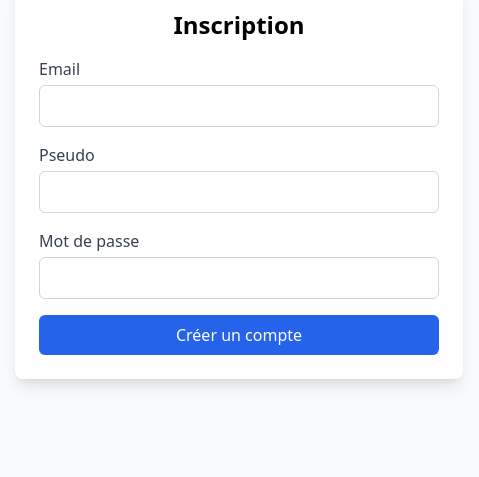
Test: Register Page › affiche des messages d'erreur de validation pour les champs requis
Click the button "Créer un compte".
click(239, 335)  # box [39, 315, 439, 355]
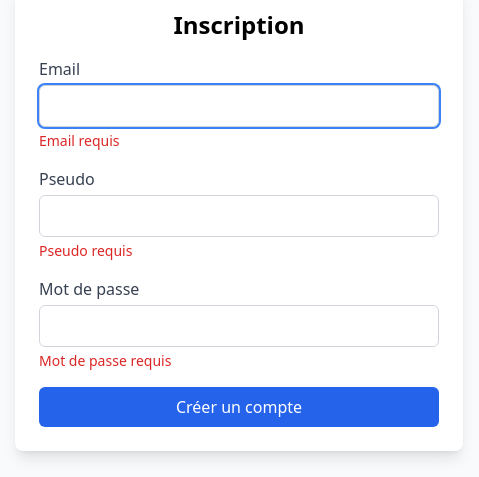
Result: the text "Email requis" is shown at [39, 131, 120, 150]
Result: the text "Pseudo requis" is shown at [39, 241, 132, 260]
Result: the text "Mot de passe requis" is shown at [39, 351, 171, 370]
